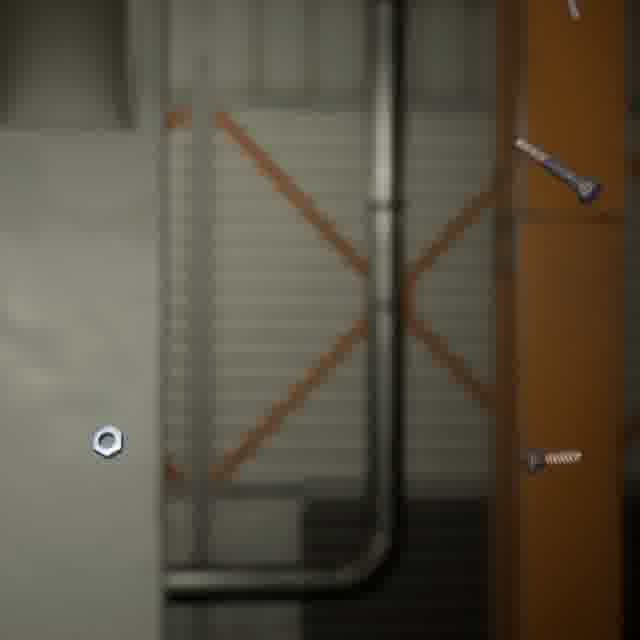bolt: (510, 132, 606, 209), (516, 444, 586, 477), (558, 0, 585, 24)
nut: (87, 420, 128, 464)
